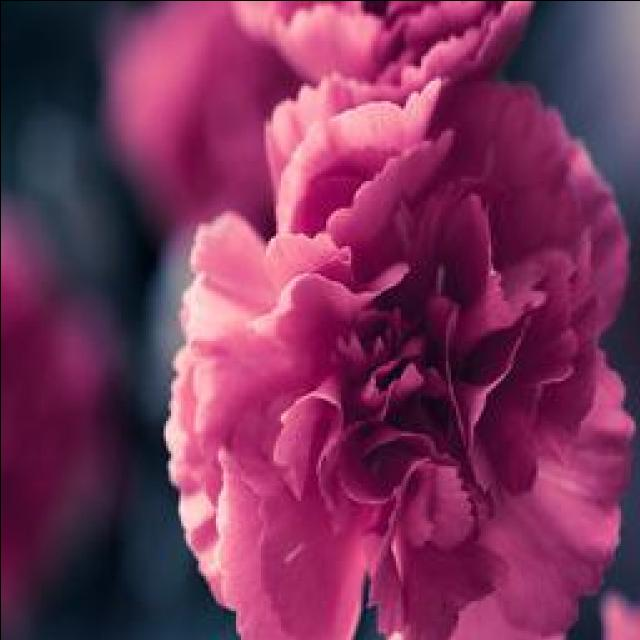carnation: (156, 73, 634, 640)
